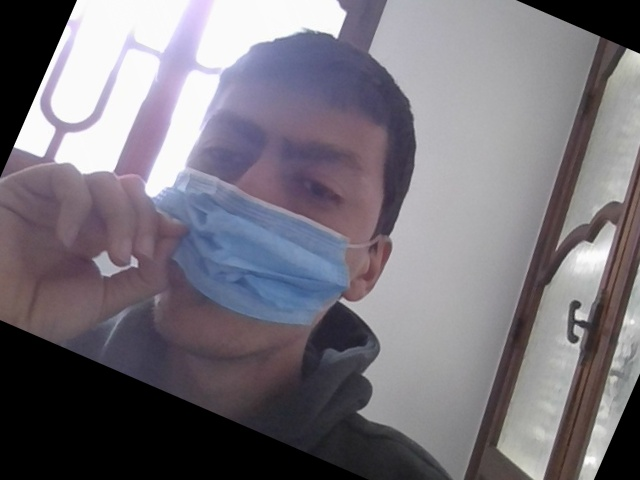mask_weared_incorrect: (149, 66, 385, 353)
